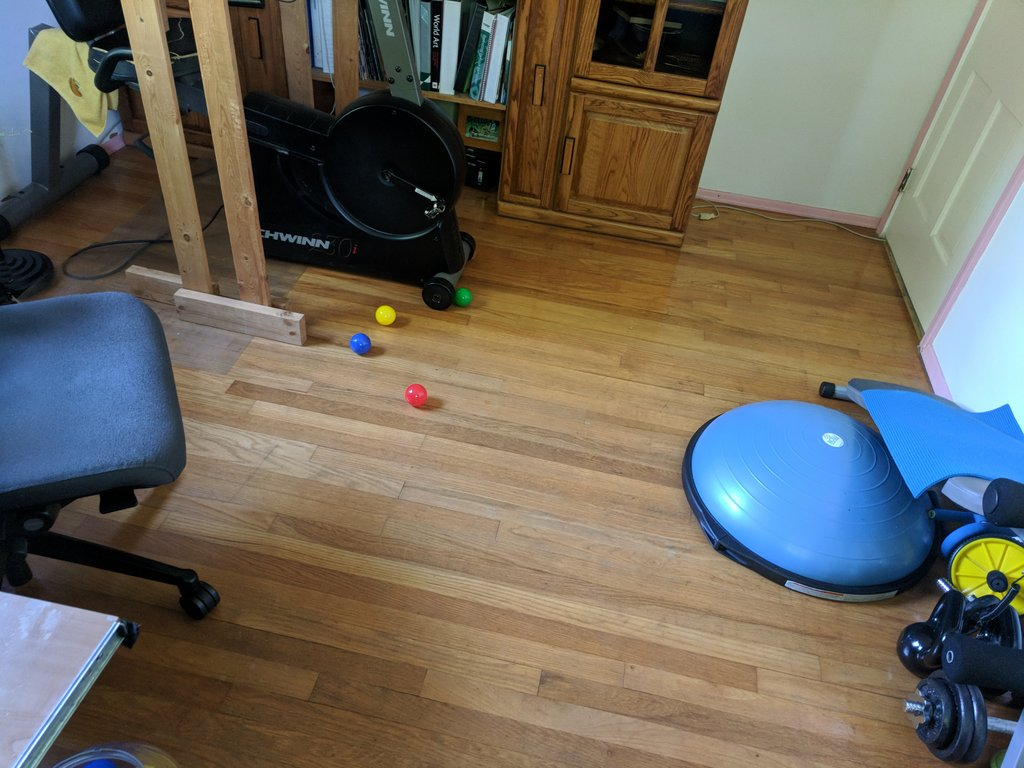ball: (351, 333, 371, 356)
